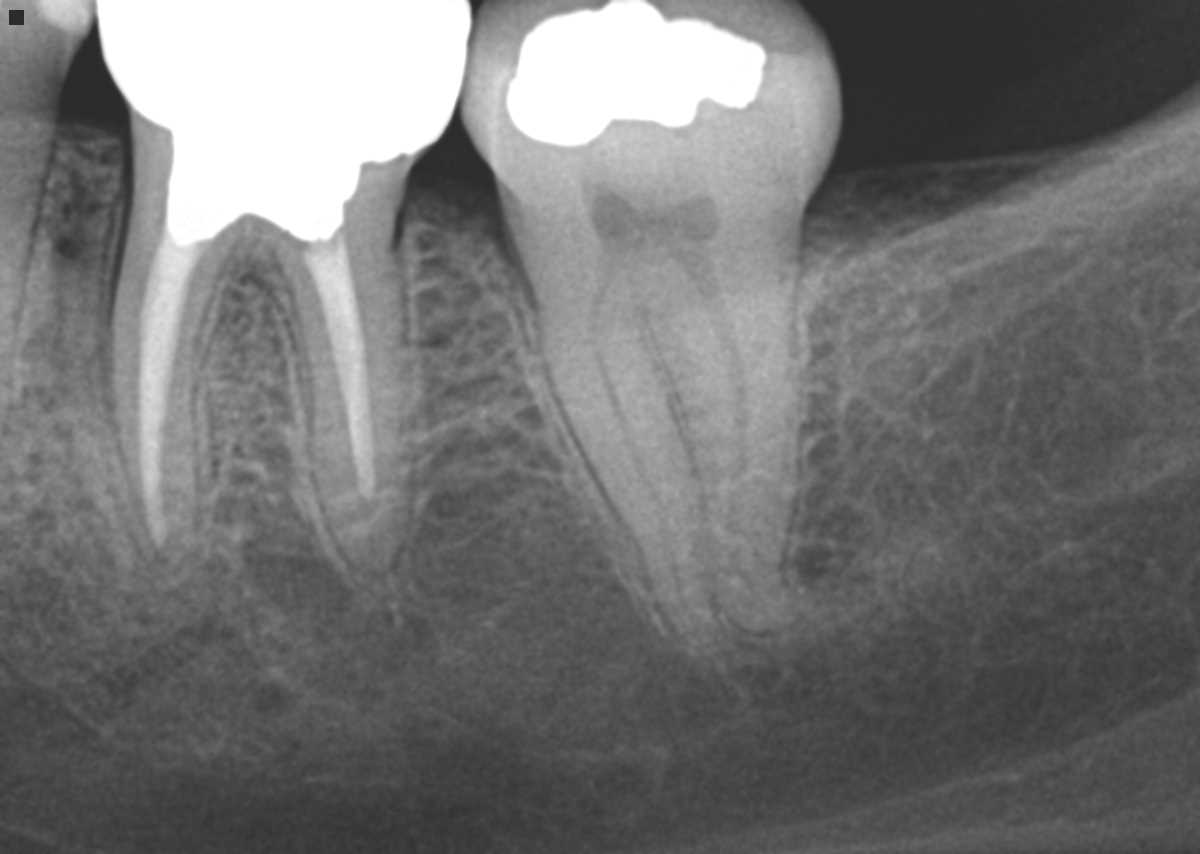Distal Canal: (689, 269, 750, 572)
Distal Root: (647, 250, 807, 631), (276, 207, 416, 582)
Main Root: (0, 124, 59, 415)
Mesial Canal: (588, 275, 708, 641)
Mesial Root: (530, 281, 718, 651), (109, 247, 232, 567)
Root Canal Filling: (302, 237, 380, 505), (135, 250, 198, 550)
